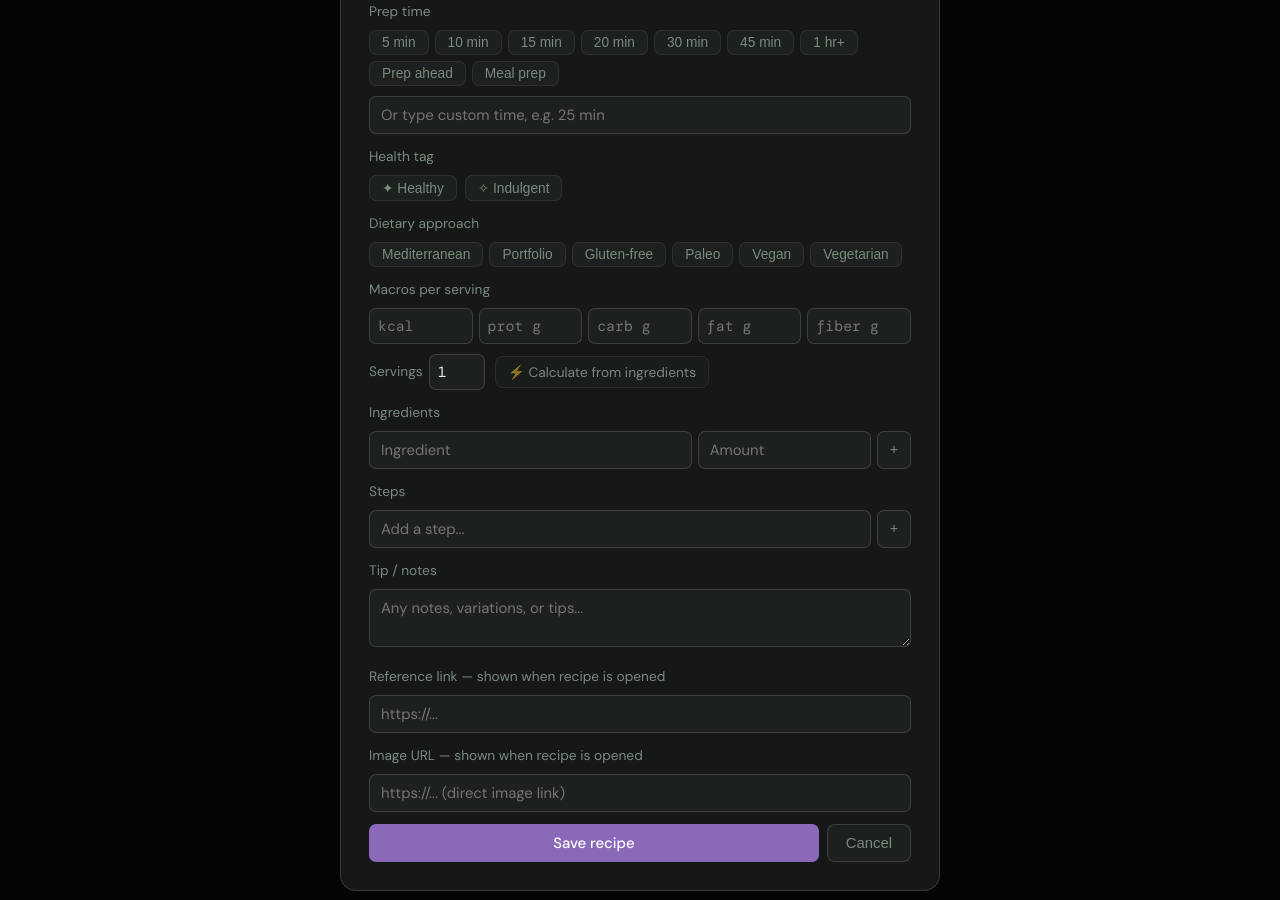
Test: RecipeModal — macro calculation › shows a no-match message when nothing resolves
The width and height of the screenshot is (1280, 900).
(page scrolled)
Type "Rice" into the field with placeholder "Ingredient" at (530, 450), box [369,431,692,469]
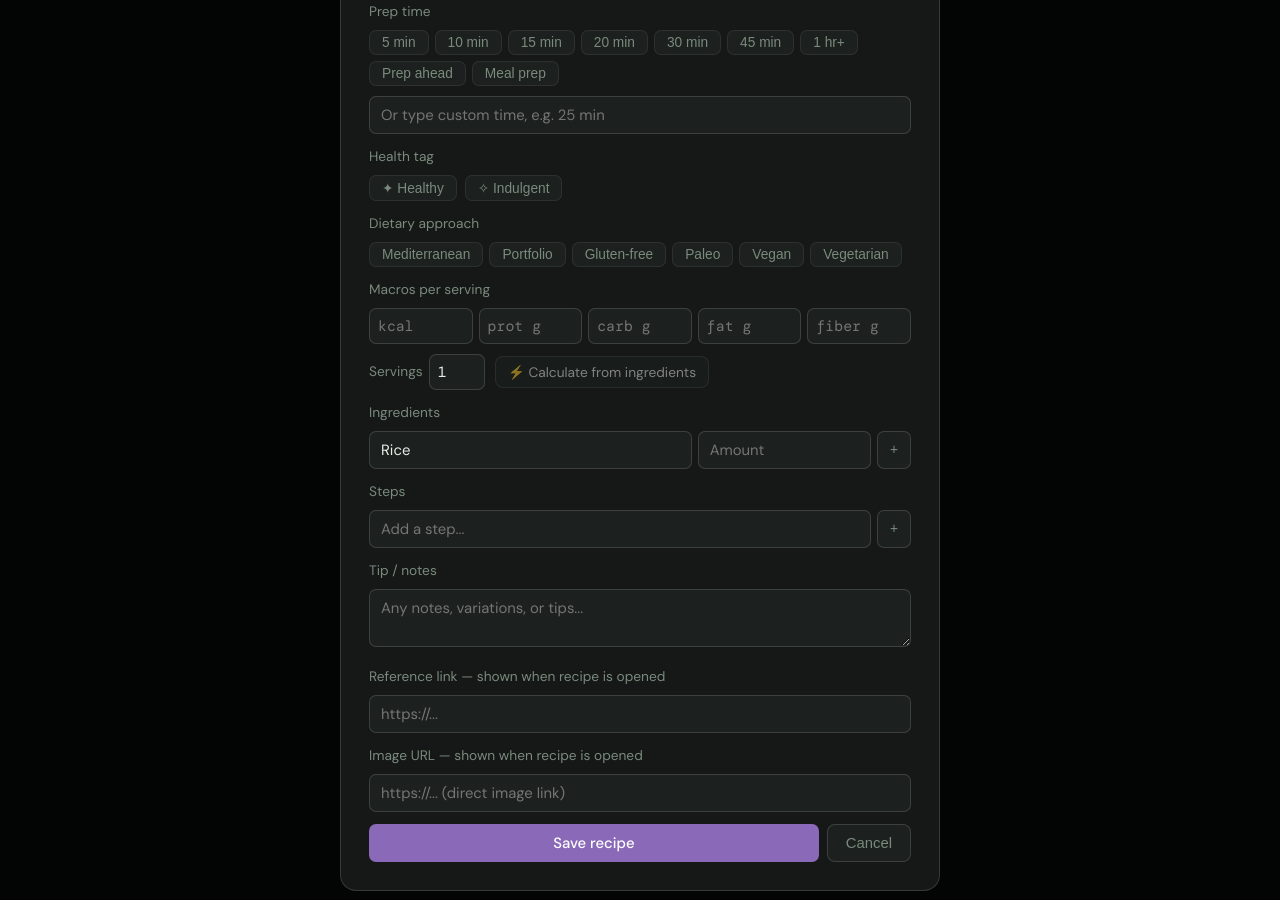
Click the 1st button "+" at (894, 450), box [877,431,911,469]
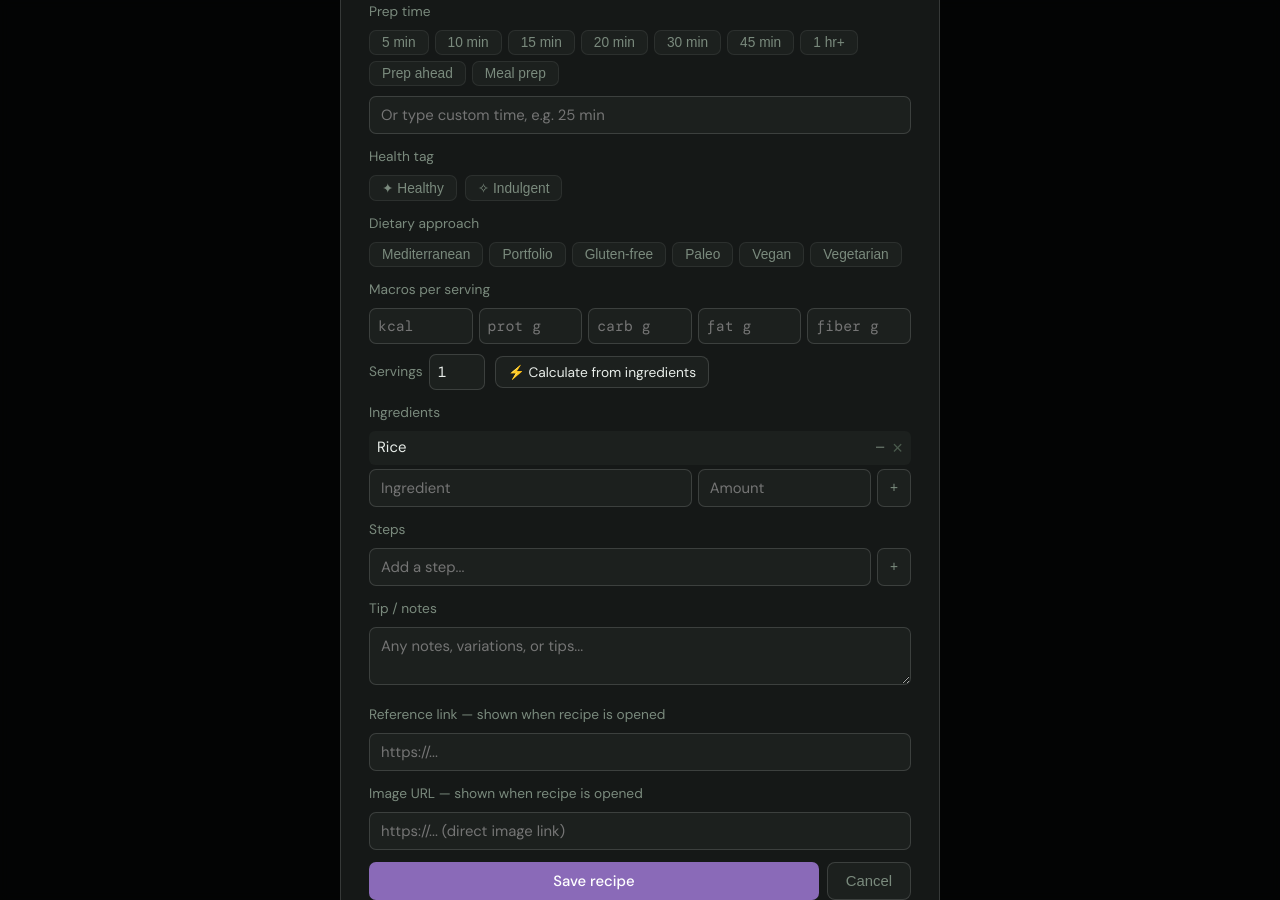
Click the button "⚡ Calculate from ingredients" at (602, 372), box [495,356,709,388]
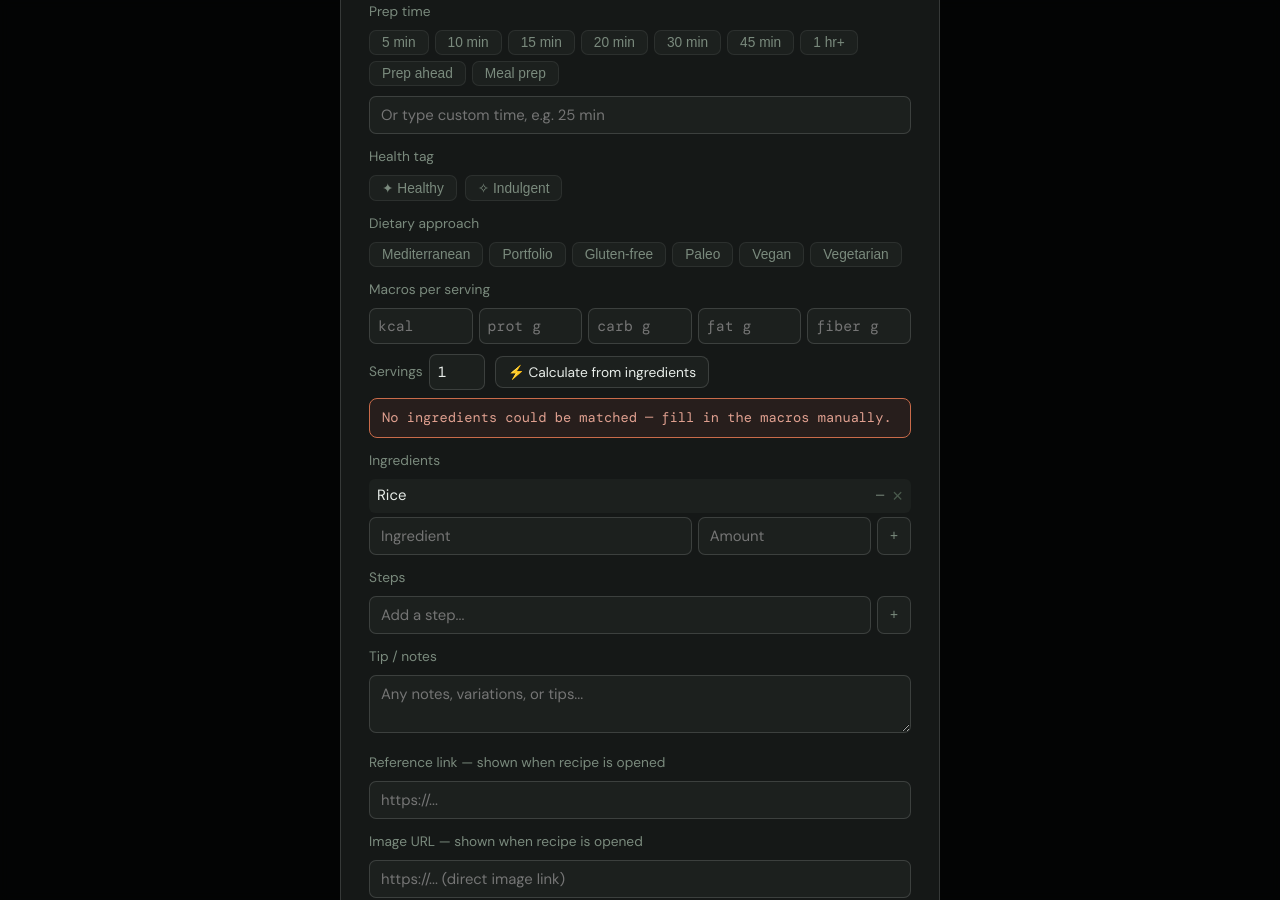
Now the text "No ingredients could be matched — fill in the macros manually." is shown, box [369,398,911,438]
